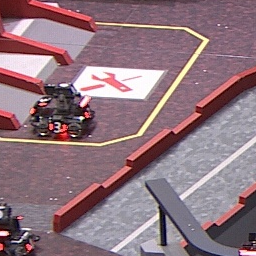Red: (48, 123, 67, 133), (24, 237, 36, 251), (38, 96, 50, 107)
Robot: (27, 82, 96, 139), (1, 203, 42, 255)
